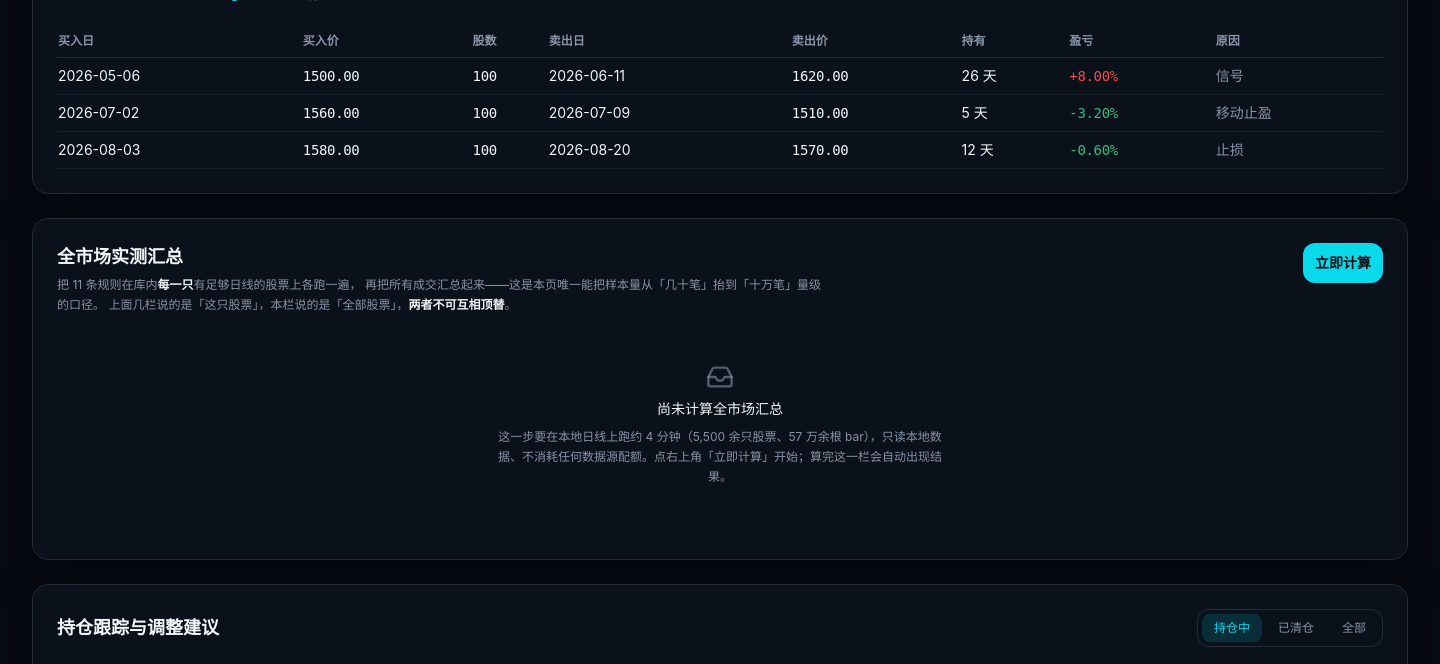
Test: StrategyPage › 全市场汇总：没算过时给空态与「立即计算」，绝不显示 0 笔
(page scrolled)
Expected: the text "尚未计算全市场汇总" is shown, [657,399,783,419]
Click the button "立即计算". click: (1343, 263)
box: [1303,243,1383,283]
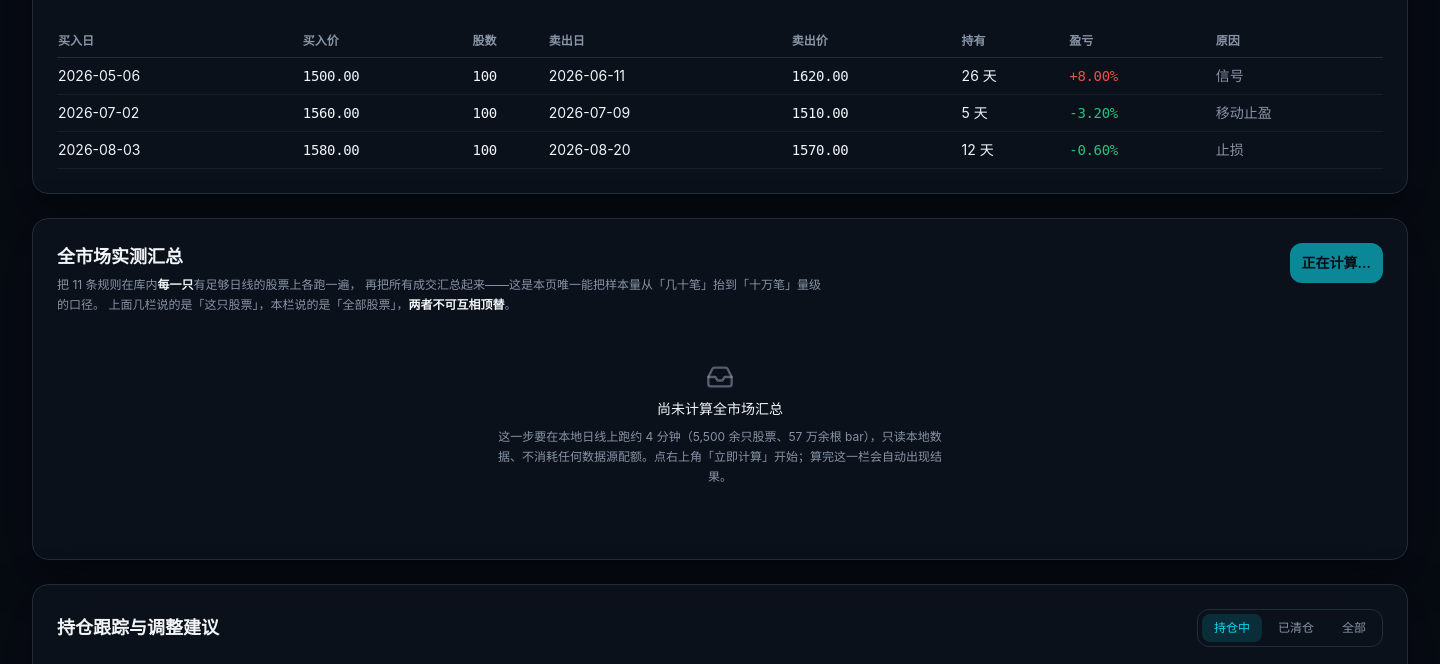
Expected: the button "正在计算…" is disabled, [1290,243,1383,283]
